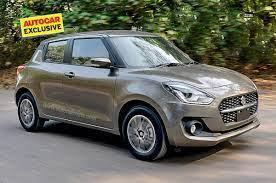Hatchback: (12, 30, 261, 160)
